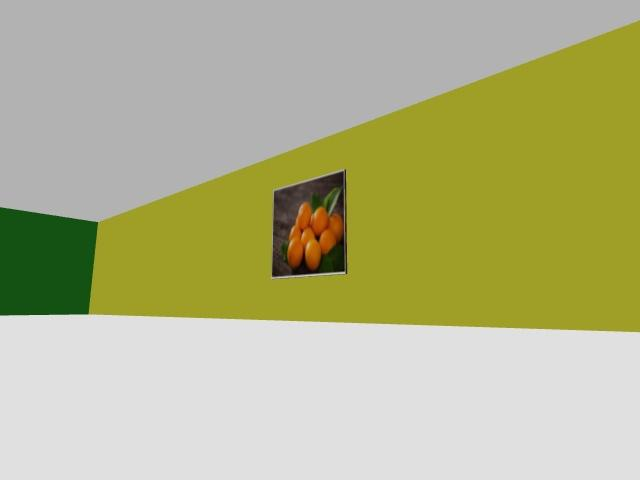orange: (305, 238, 321, 272), (287, 237, 303, 269), (311, 206, 327, 236), (319, 228, 336, 254), (328, 213, 343, 242), (296, 202, 311, 230), (301, 227, 316, 247), (289, 225, 300, 239), (309, 214, 313, 229), (294, 217, 298, 227)
